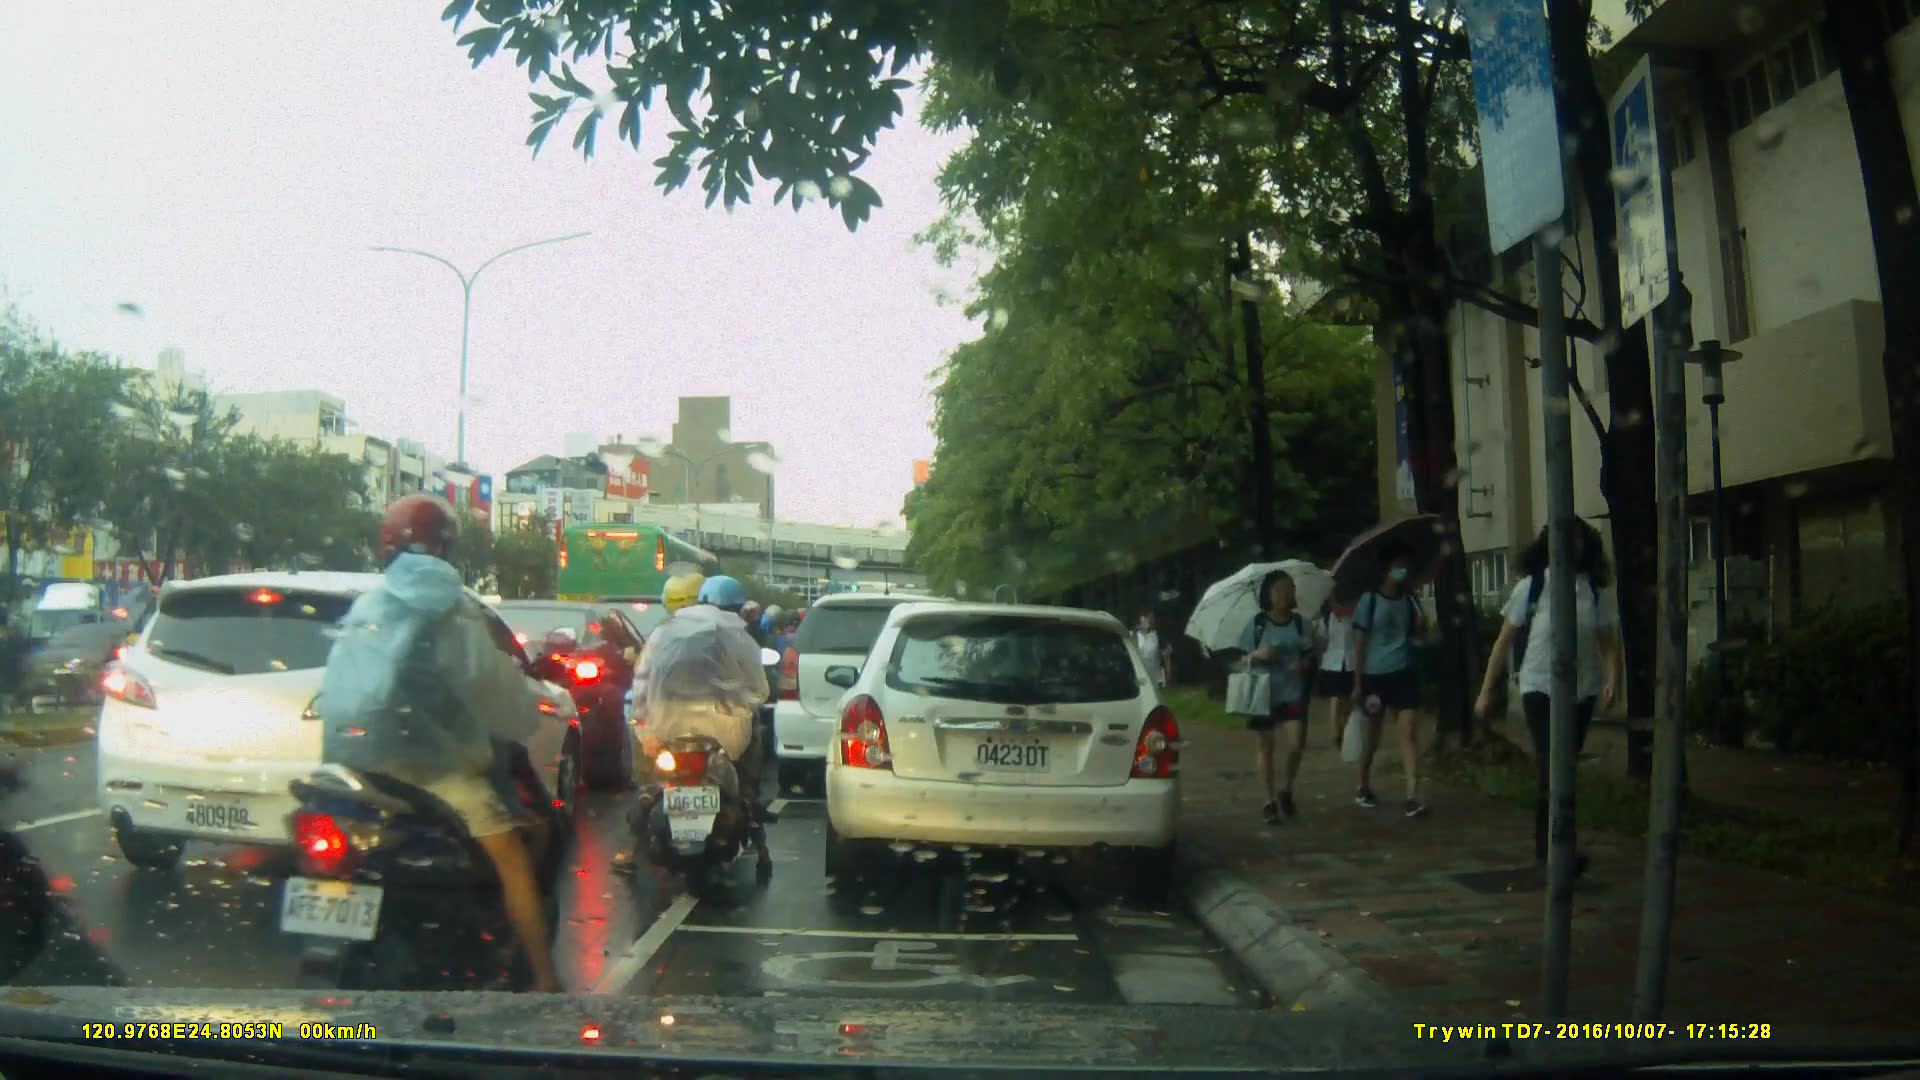pedestrian: (1491, 501, 1618, 892), (1330, 540, 1447, 827), (1230, 566, 1329, 837), (1129, 601, 1173, 748)
rider: (268, 492, 597, 1002), (608, 572, 778, 892), (658, 586, 761, 814)
vehicle: (94, 569, 588, 883), (822, 604, 1186, 883), (774, 595, 995, 802), (555, 520, 739, 666), (20, 576, 199, 697), (14, 621, 221, 717)
